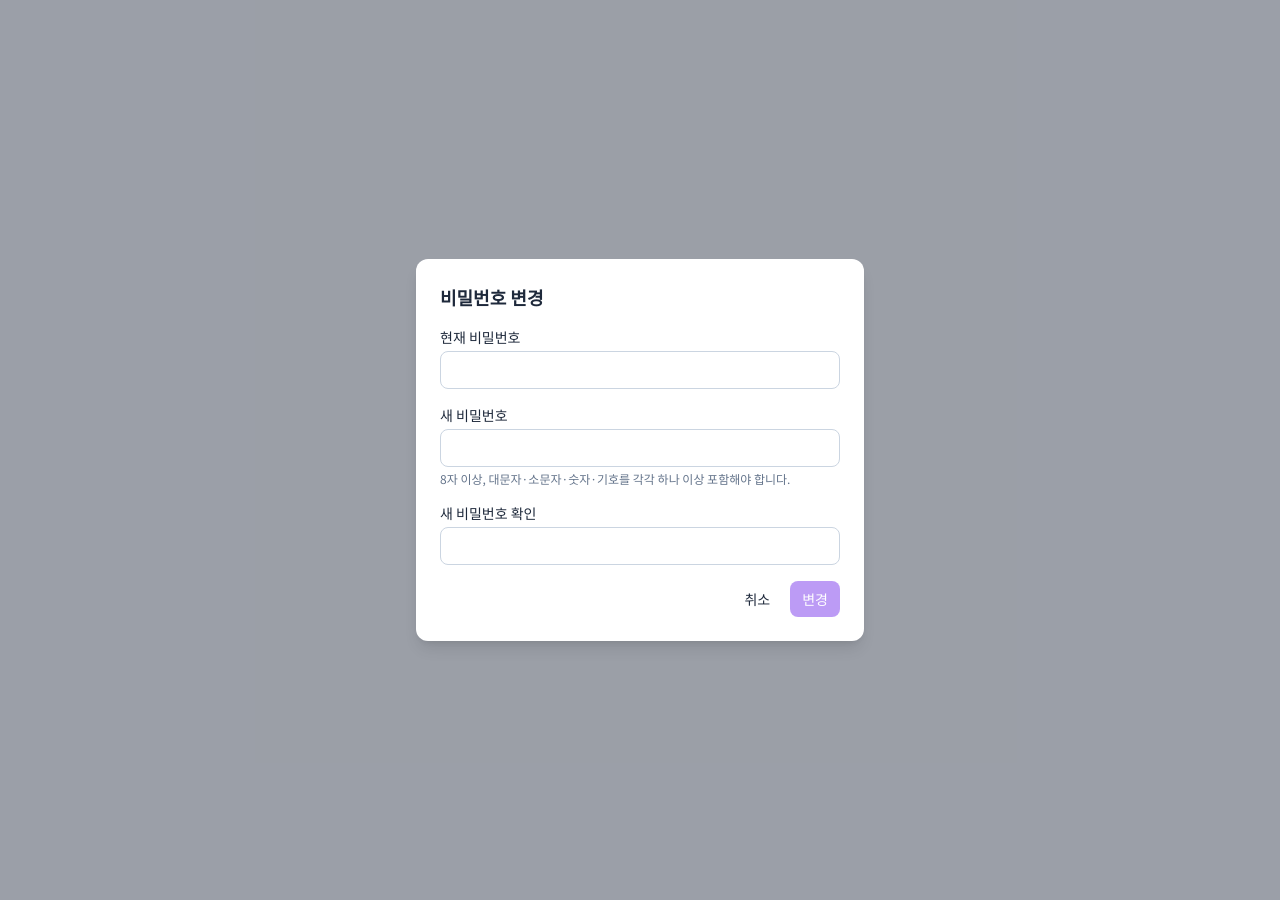
Scenario: ChangePasswordModal › tells the user the current password was wrong, not that access was denied
Type "Wrong1!x" into the password field labelled "현재 비밀번호". click: x=640, y=370
box: [440,351,840,389]
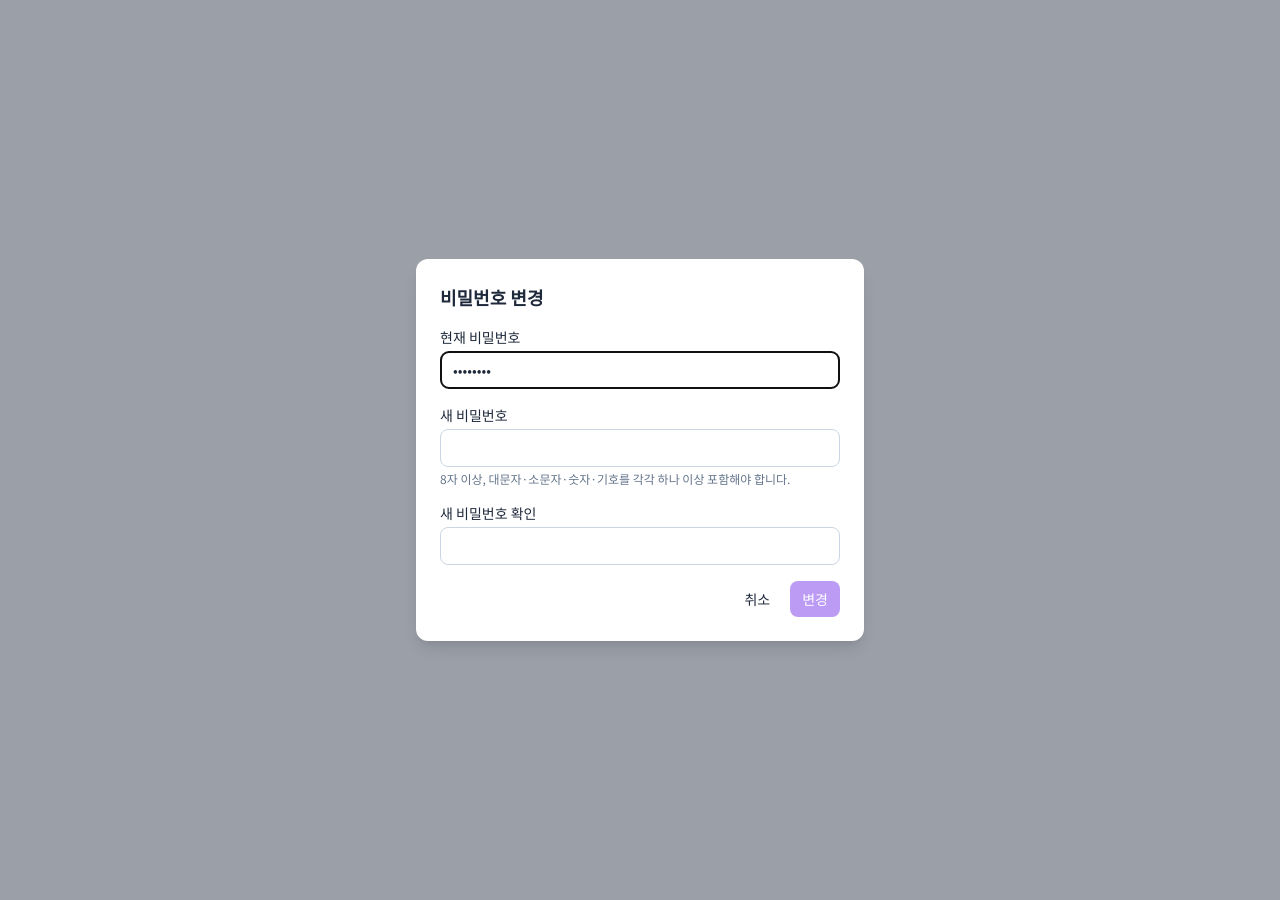
Type "NewPass2@" into the password field labelled "새 비밀번호". click: x=640, y=448
box: [440,429,840,467]
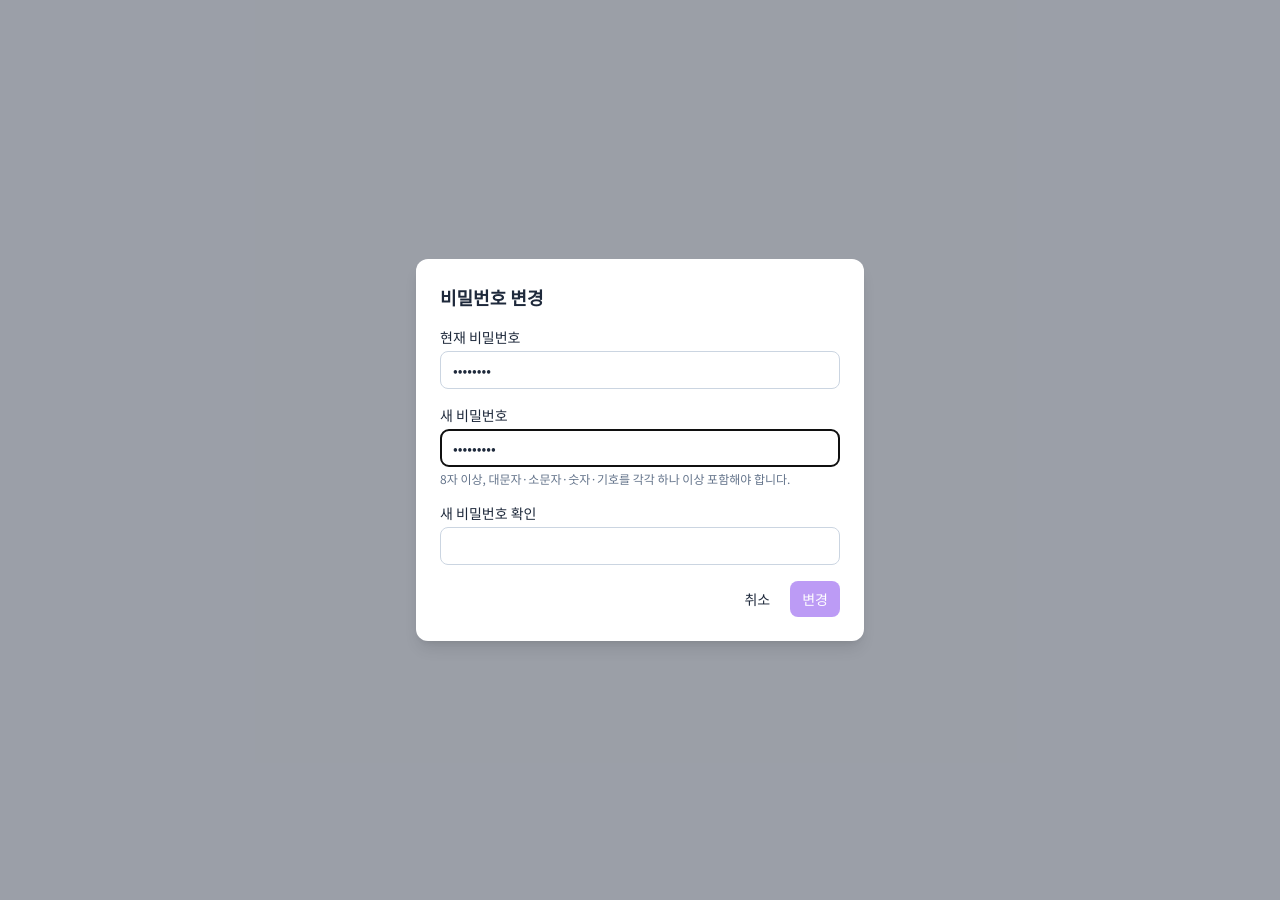
Type "NewPass2@" into the password field labelled "새 비밀번호 확인". click: x=640, y=546
box: [440,527,840,565]
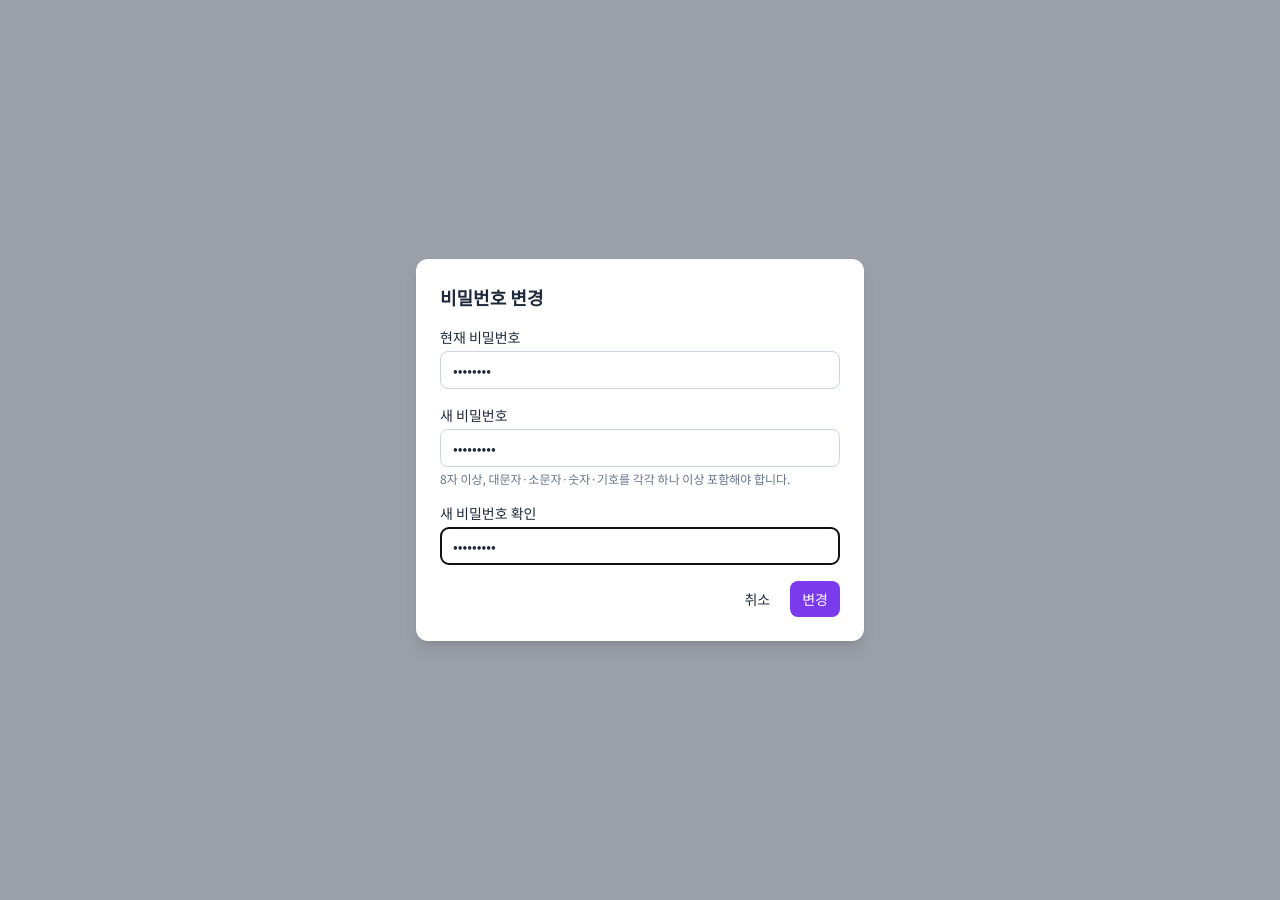
Click the button "변경". click: x=815, y=599
box: [790,581,840,617]
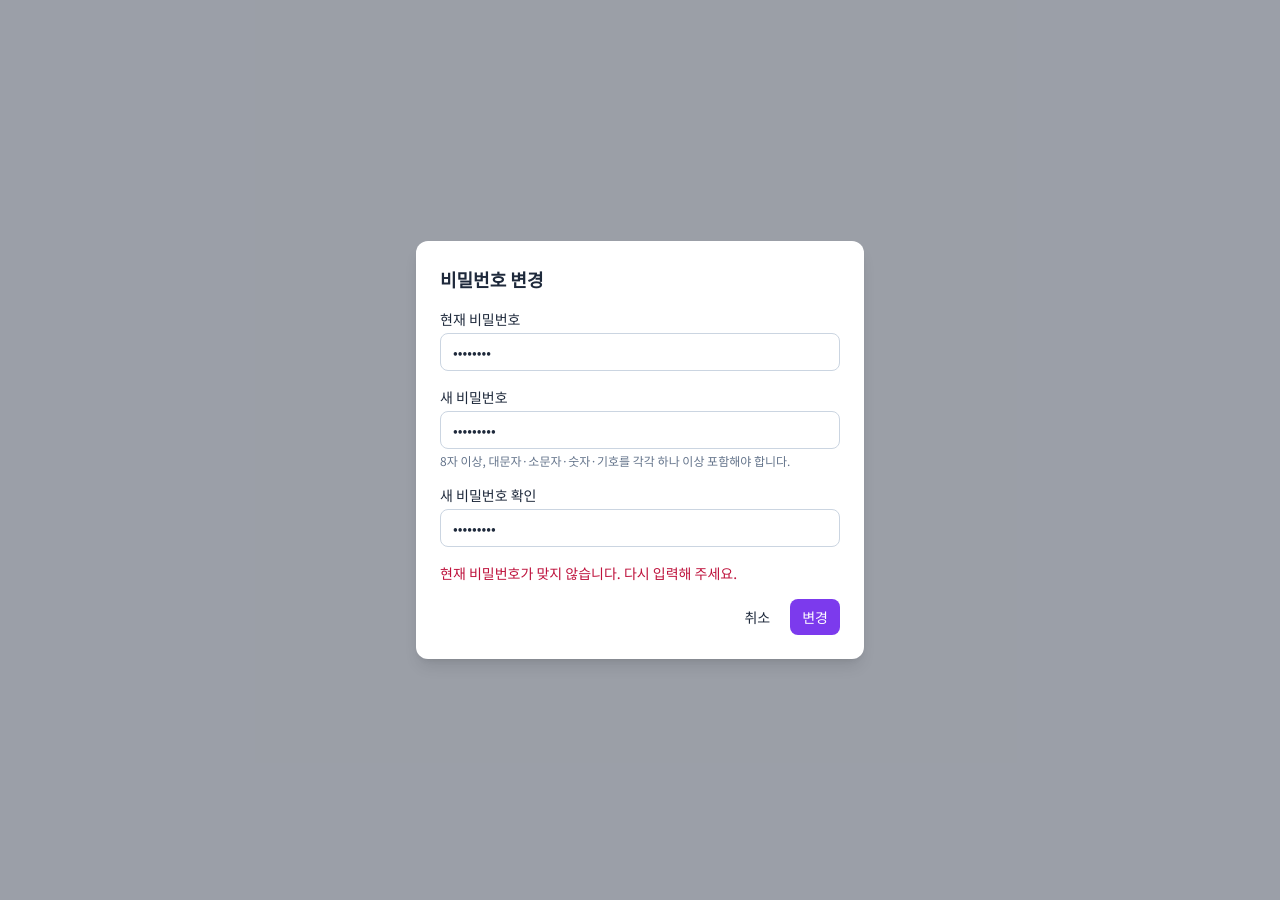
Now the message shows "현재 비밀번호가 맞지 않습니다", box [440,563,737,583]
